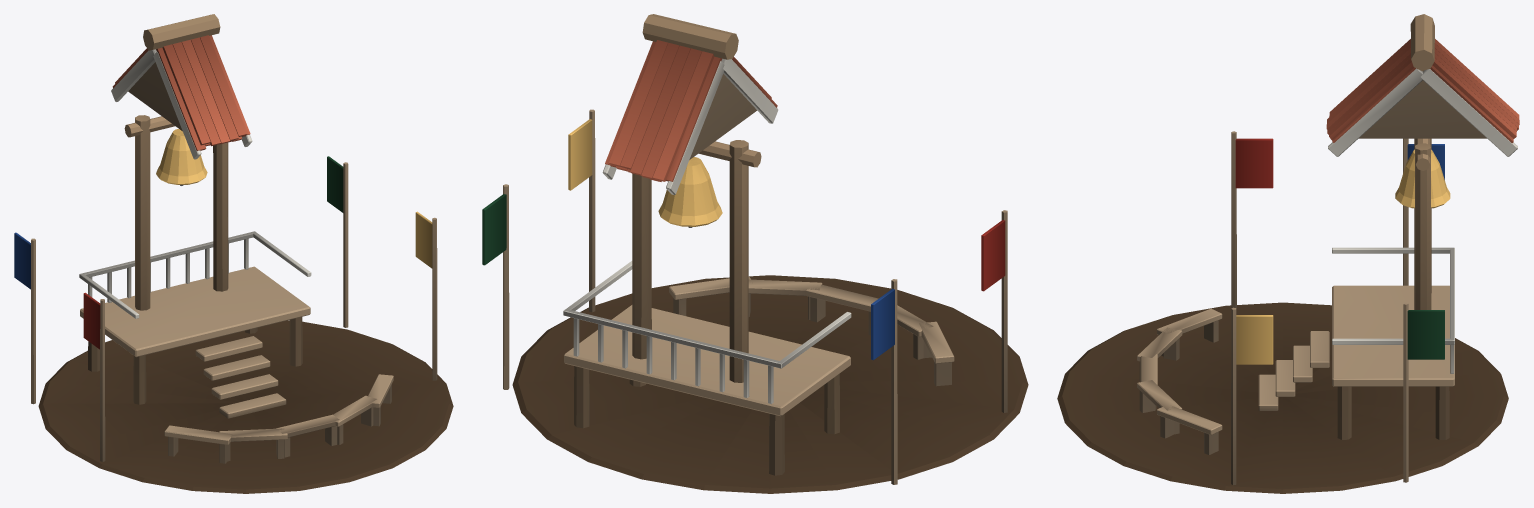
File: bld_veche_e1.glb
The picture shows the model from 3 angles, left to right: view 1: azimuth 30°, elevation 25°; view 2: azimuth 150°, elevation 25°; view 3: azimuth 270°, elevation 25°; orthographic projection. The views are drawn at different scales.
Visible parts, largest first — view 1: veche; view 2: veche; view 3: veche.
Boxes of the visible parts, box(x1,y1,x2,y2) form: veche: box(14, 14, 453, 493); veche: box(482, 14, 1028, 493); veche: box(1057, 14, 1519, 493).
Bounding box in the file's own units: 1.84 × 1.65 × 1.88.
